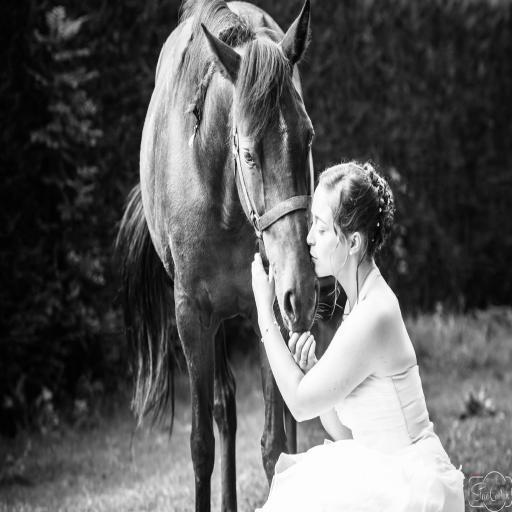horse: (114, 0, 320, 512)
